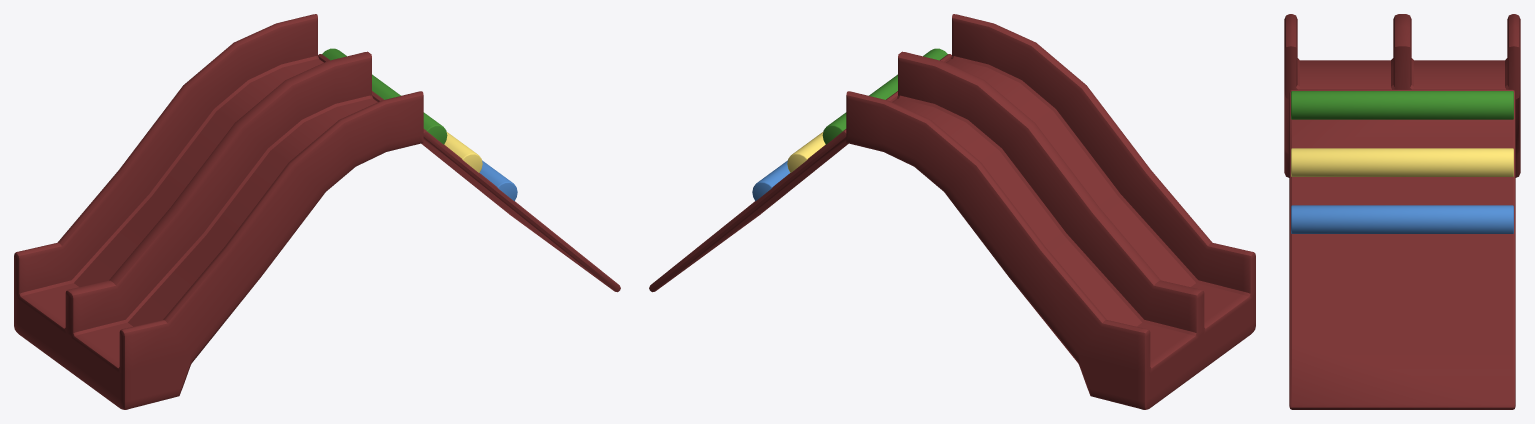
Rendered from Slidee.fbx.
The picture shows the model from 3 angles, left to right: view 1: azimuth 30°, elevation 25°; view 2: azimuth 150°, elevation 25°; view 3: azimuth 270°, elevation 25°; orthographic projection. The views are drawn at different scales.
Parts seen in each view (by area): view 1: Slide, Slide stair.002, Slide stair.001, Slide stair; view 2: Slide, Slide stair.002, Slide stair.001, Slide stair; view 3: Slide, Slide stair.002, Slide stair.001, Slide stair.
Boxes of the visible parts, x1=… form: Slide: x1=14, y1=14, x2=620, y2=409; Slide stair.002: x1=322, y1=48, x2=447, y2=144; Slide stair.001: x1=444, y1=132, x2=482, y2=172; Slide stair: x1=479, y1=160, x2=517, y2=201; Slide: x1=649, y1=14, x2=1255, y2=409; Slide stair.002: x1=822, y1=48, x2=947, y2=144; Slide stair.001: x1=787, y1=132, x2=825, y2=172; Slide stair: x1=752, y1=160, x2=790, y2=201; Slide: x1=1284, y1=14, x2=1520, y2=409; Slide stair.002: x1=1291, y1=91, x2=1513, y2=119; Slide stair.001: x1=1291, y1=148, x2=1513, y2=176; Slide stair: x1=1291, y1=205, x2=1513, y2=233.
Size of the model in its own units: 293 by 139 by 113.
